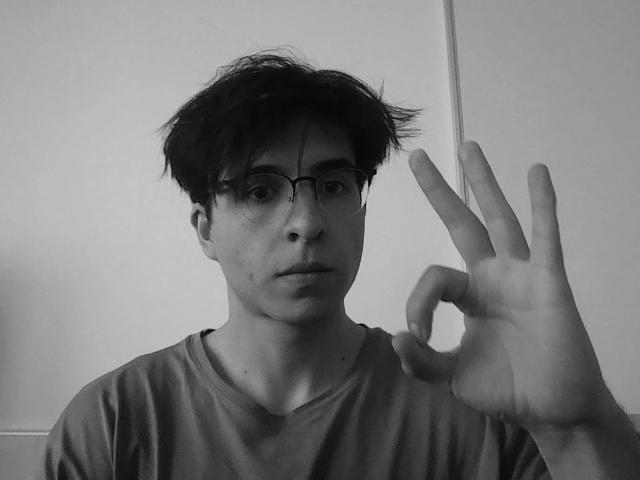OK: (387, 137, 601, 432)
